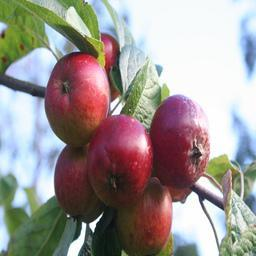apple: (85, 114, 153, 210), (44, 54, 111, 150), (148, 94, 210, 191), (113, 179, 173, 254), (52, 143, 102, 218)
